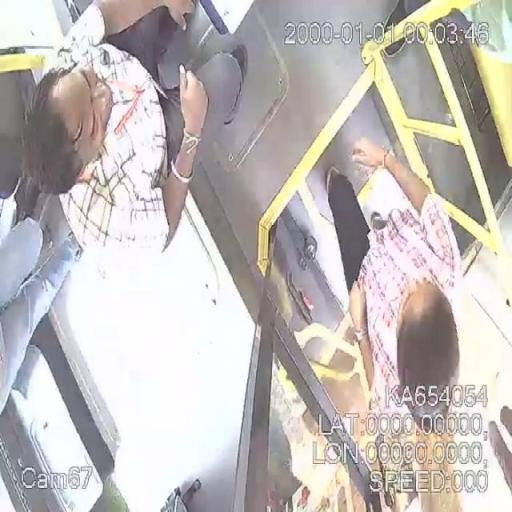persona: (29, 2, 248, 260), (342, 135, 464, 510), (2, 214, 80, 444)
